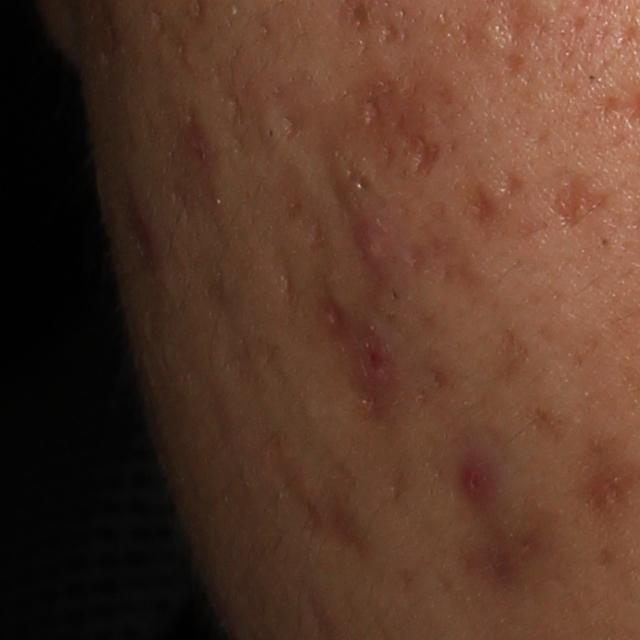atrophic_scar: (195, 255, 270, 389), (449, 499, 555, 593), (267, 434, 337, 550), (110, 170, 163, 298), (548, 171, 617, 234), (277, 185, 329, 257), (142, 311, 177, 398), (398, 128, 440, 183), (267, 227, 294, 312), (335, 149, 377, 201), (463, 175, 497, 232), (498, 169, 523, 202), (377, 20, 404, 47), (279, 113, 300, 143)
comedo: (598, 232, 612, 248)
papule: (353, 219, 398, 267), (356, 335, 399, 384), (457, 459, 492, 501)
